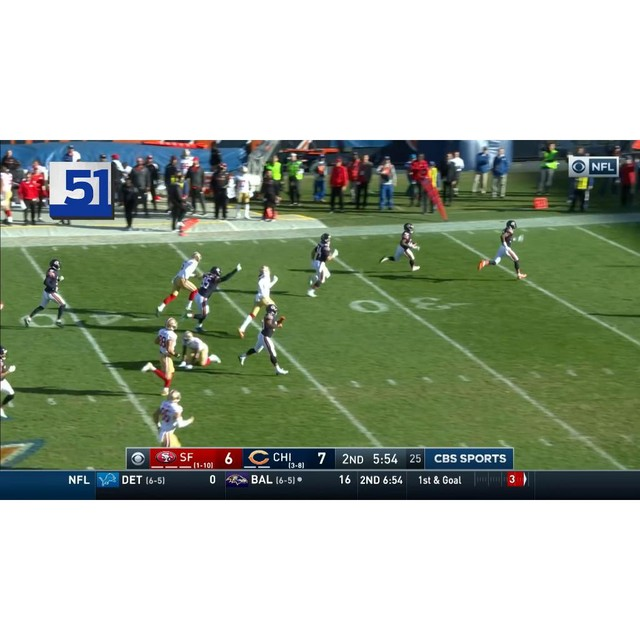american-football-player: (184, 265, 240, 333), (239, 302, 289, 375), (141, 318, 182, 394), (156, 251, 203, 317), (24, 258, 68, 328), (238, 265, 280, 337), (477, 219, 527, 279), (152, 390, 195, 448), (379, 222, 421, 272), (306, 232, 338, 297), (181, 330, 222, 368), (0, 346, 19, 419)
